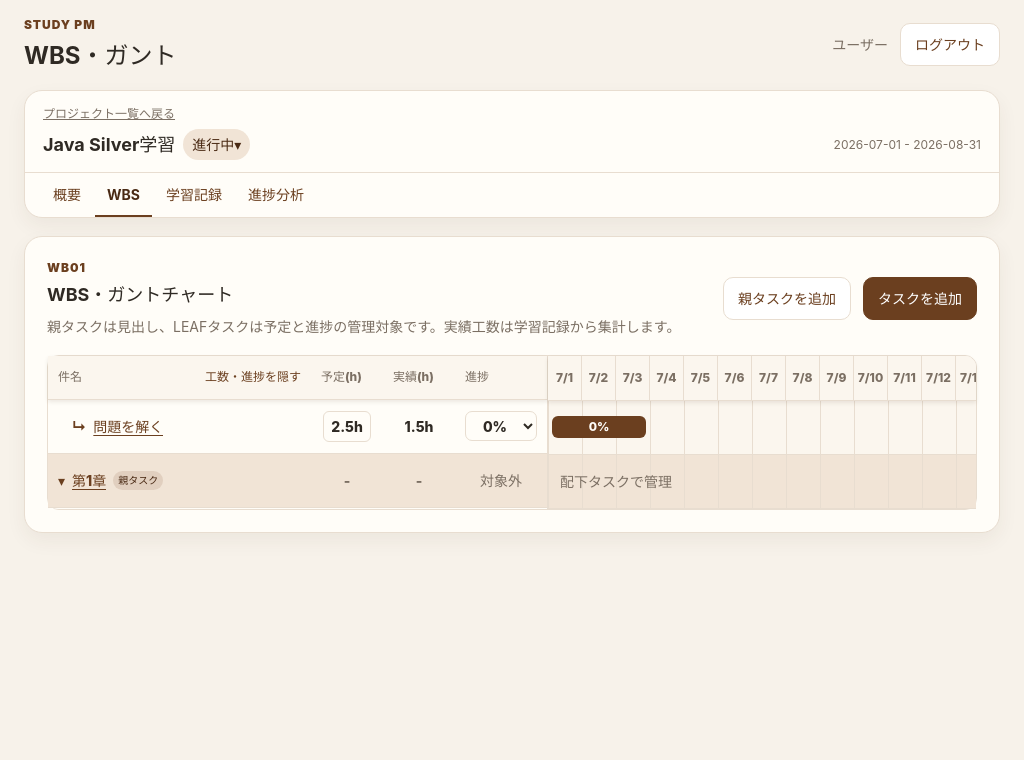
Test: WbsPage › 学習記録があるLEAFでは削除理由を表示して削除を無効化する
Click the button with aria-label "問題を解くの詳細を開く".
click(180, 426)  # box [58,416,301,437]
(page scrolled)
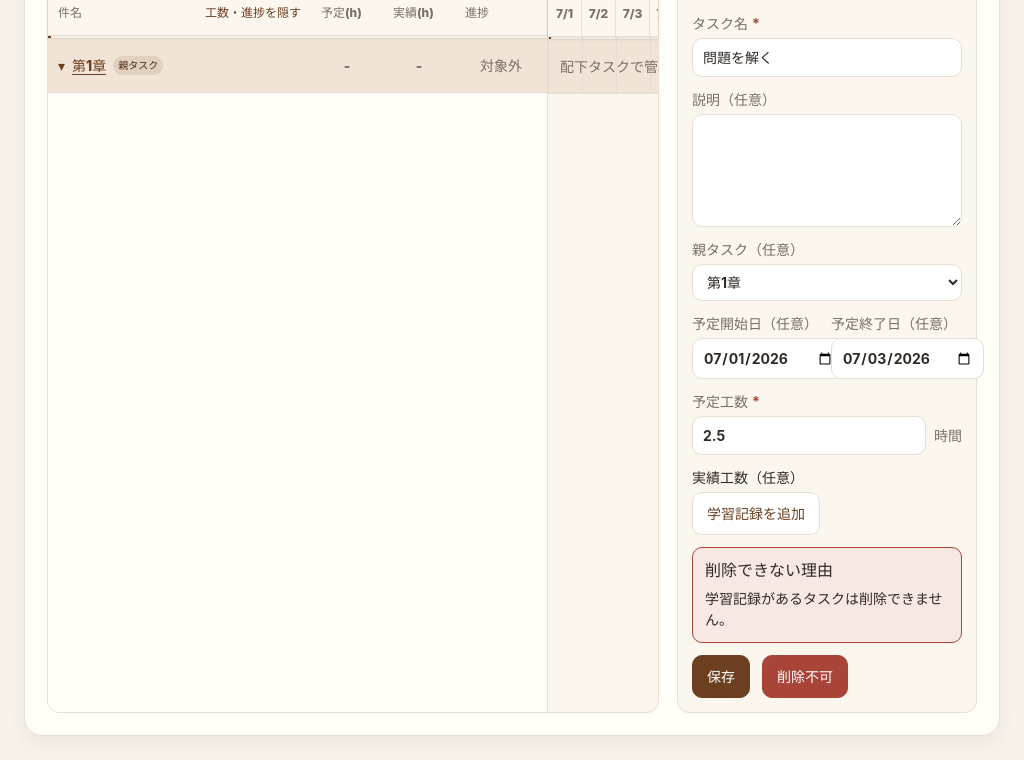
Expected: the text "実績工数（任意）" is shown, [692,469,804,486]
Expected: the text "学習記録があるタスクは削除できません。" is shown, [705,588,949,630]
Expected: the button "削除不可" is disabled, [762,655,848,698]
